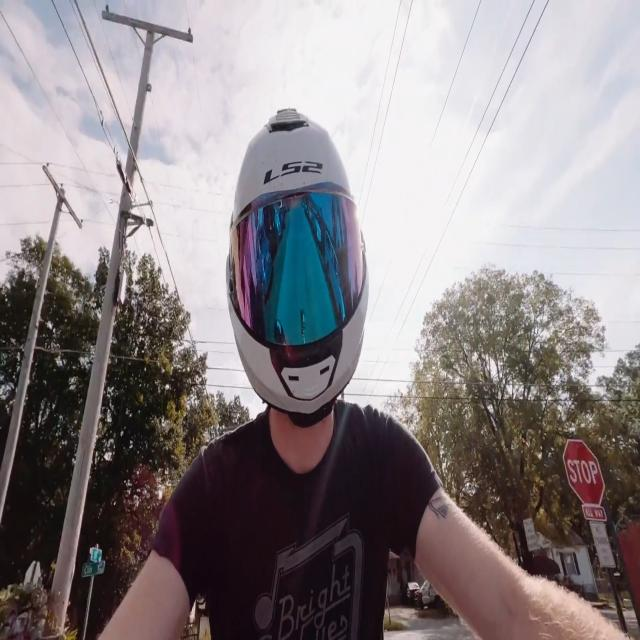Helmet_Wearer: (215, 105, 371, 427)
Person: (81, 113, 576, 640)
